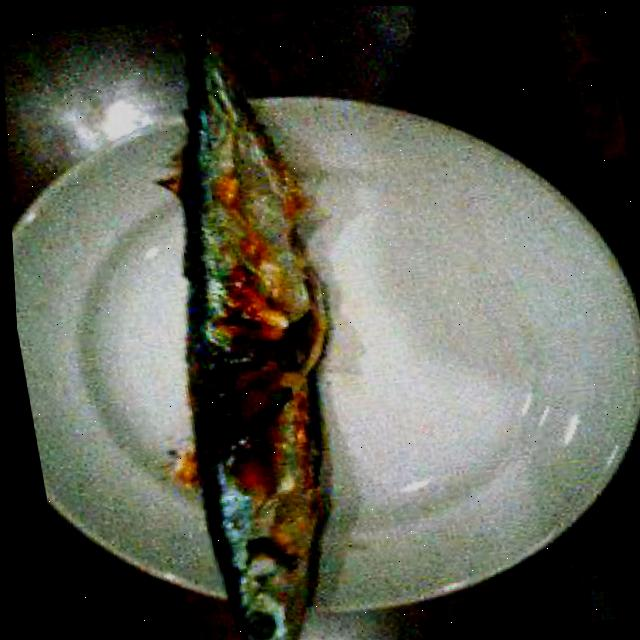熟制海鲜: (84, 4, 377, 640)
